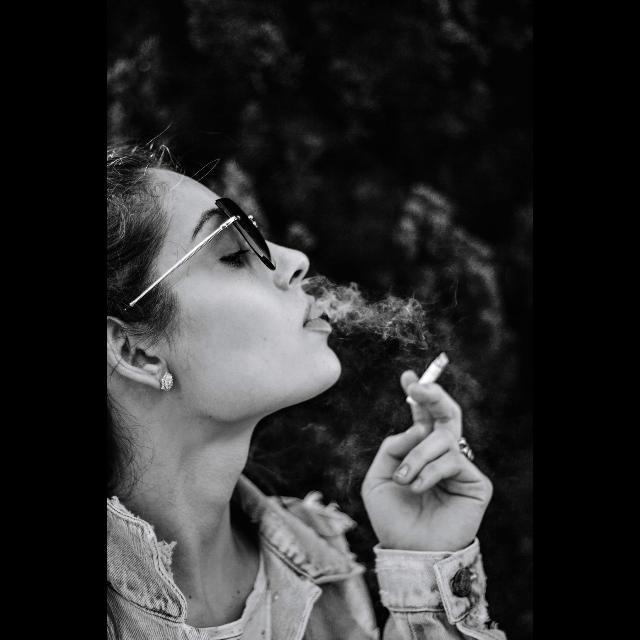rokok: (409, 346, 453, 398)
